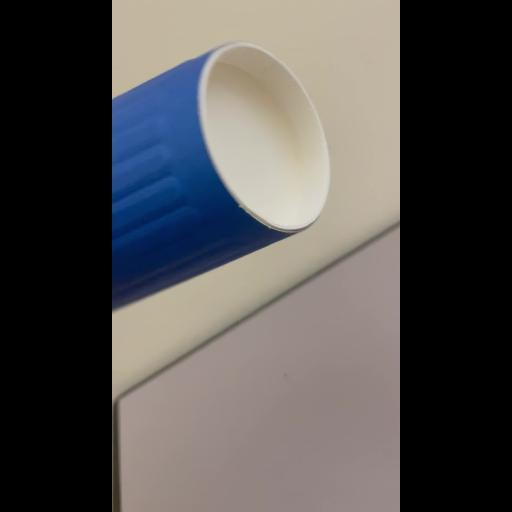lp_paper_cup: (112, 42, 334, 328)
